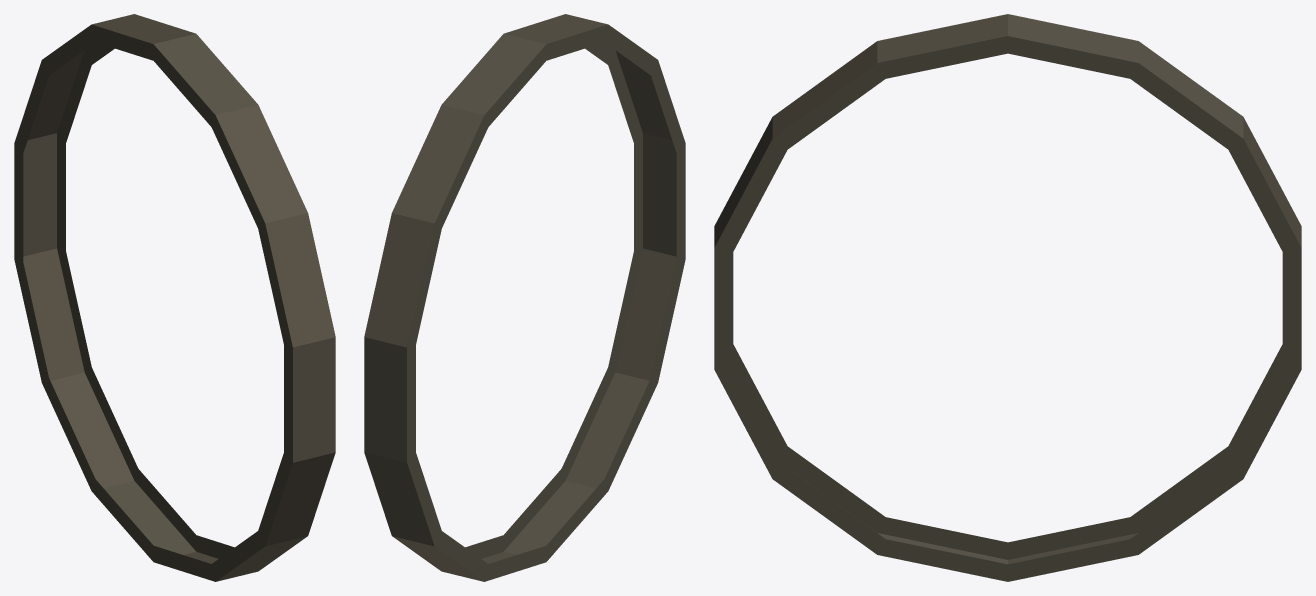
The model's file is SM_metal_support_05.fbx.
3 renders of one model, left to right at view 1: azimuth 30°, elevation 25°; view 2: azimuth 150°, elevation 25°; view 3: azimuth 270°, elevation 25°, orthographic. The views are drawn at different scales.
Visible parts, largest first — view 1: metal_support_05; view 2: metal_support_05; view 3: metal_support_05.
Boxes of the visible parts, x1=… form: metal_support_05: x1=14, y1=14, x2=335, y2=581; metal_support_05: x1=364, y1=14, x2=685, y2=581; metal_support_05: x1=714, y1=14, x2=1301, y2=581.
Size of the model in its own units: 5.47 by 63.21 by 61.63.
